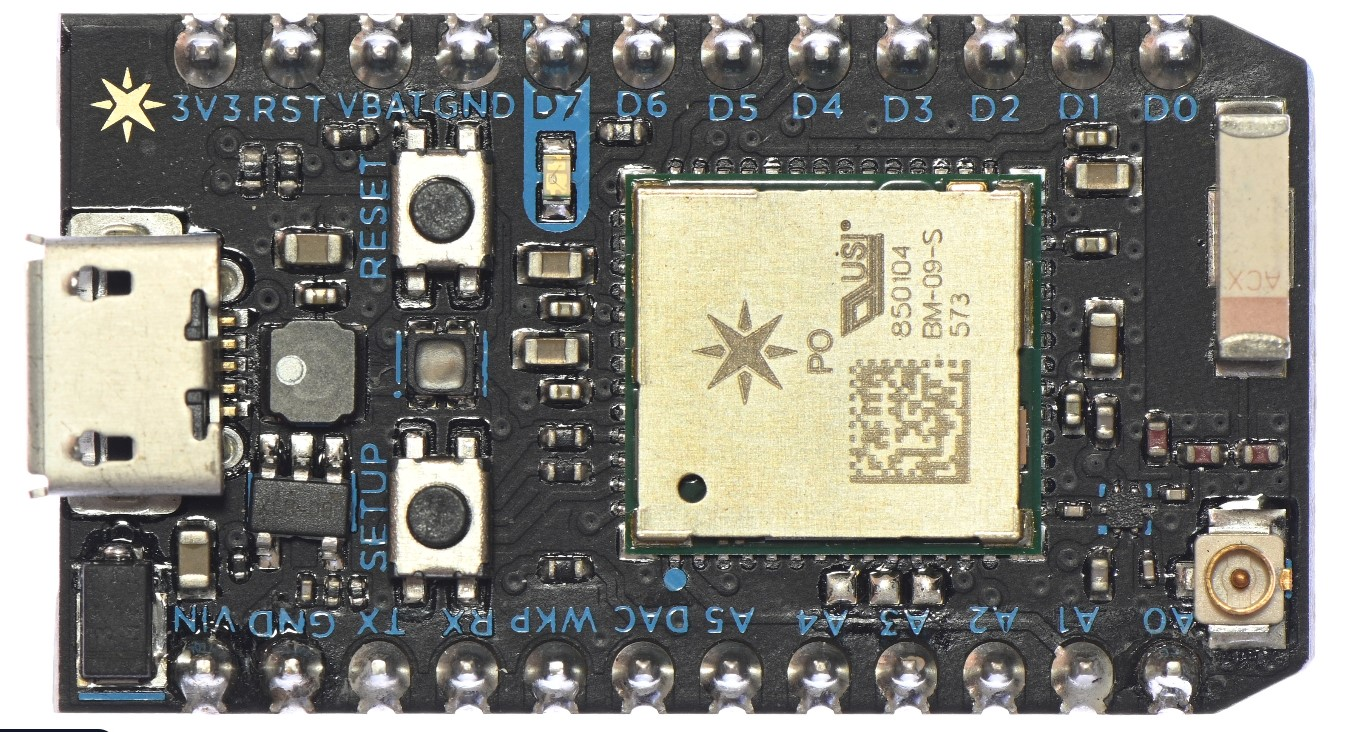Induktor: (264, 315, 363, 427)
